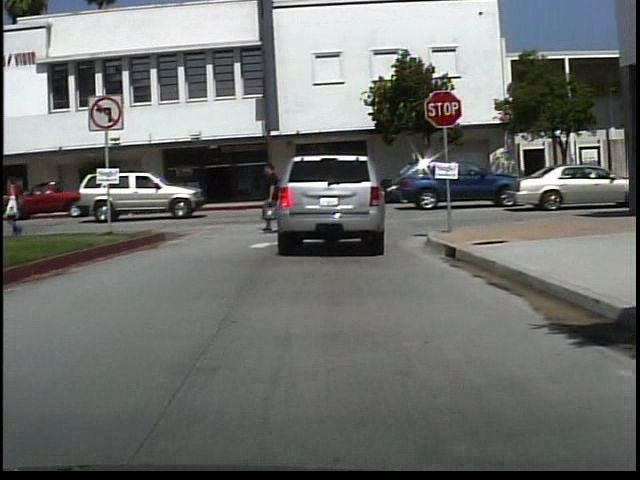person: (260, 158, 290, 239), (4, 173, 37, 241), (123, 171, 146, 210), (151, 171, 170, 208)
